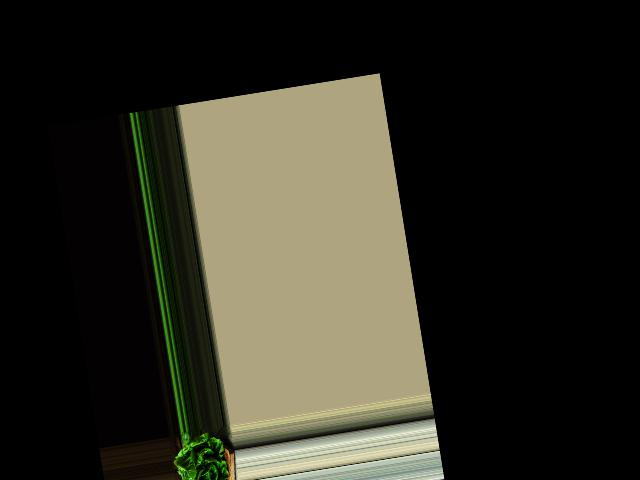lettuce: (171, 428, 234, 480)
